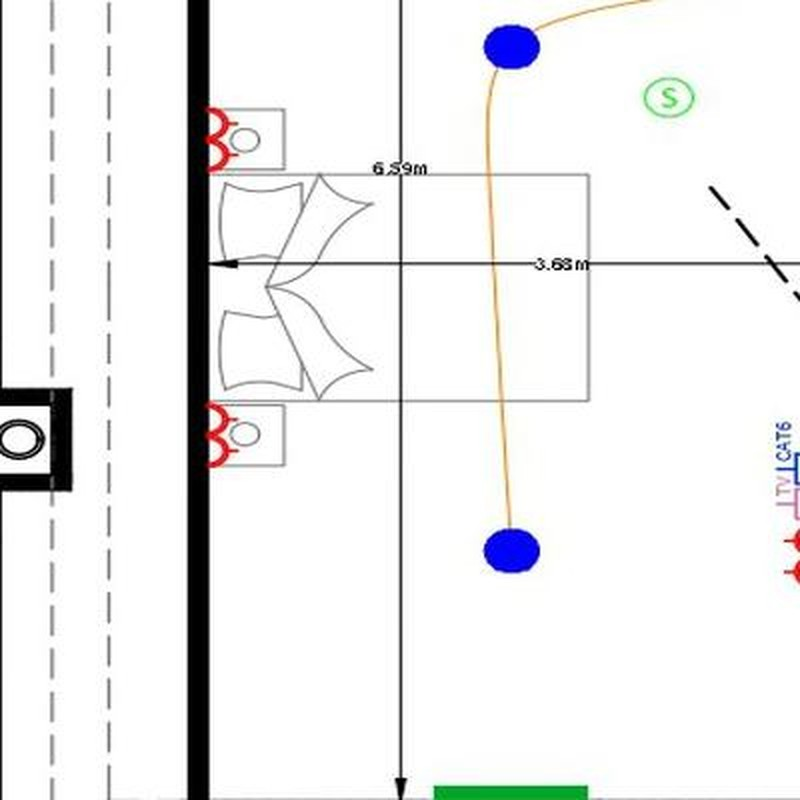Cat 6 Data Socket: (773, 419, 800, 482)
Co-Ax TV Socket: (773, 475, 800, 523)
Double Socket: (208, 403, 238, 467), (209, 107, 238, 173), (779, 527, 800, 584)
Low Energy Pendant Light: (485, 24, 541, 69), (485, 529, 540, 574)
Mains Wired Smoke Detector: (644, 78, 695, 117)
Radiator: (434, 787, 588, 800)
